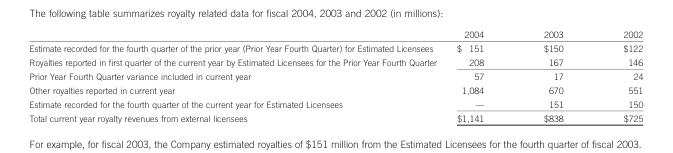table: (28, 28, 642, 122)
table column: (28, 28, 446, 122), (513, 28, 592, 122), (446, 28, 513, 122), (592, 28, 642, 122)
table column header: (28, 28, 642, 40)
table row: (28, 40, 642, 54), (28, 54, 642, 68), (28, 68, 642, 82), (28, 82, 642, 96), (28, 96, 642, 110), (28, 28, 642, 40), (28, 110, 642, 122)
